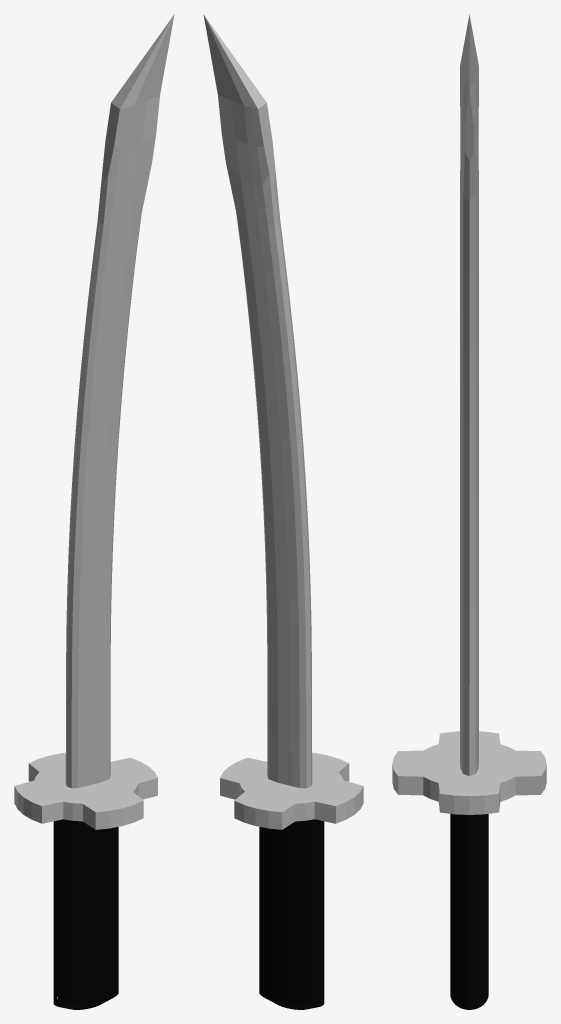
File: ExportedBlenderFBXFile.fbx
3 views of the same model, side by side, from view 1: azimuth 30°, elevation 25°; view 2: azimuth 150°, elevation 25°; view 3: azimuth 270°, elevation 25° (orthographic). The views are drawn at different scales.
Parts seen in each view (by area): view 1: katanaBlade, katanaHilt(tsuka), katanaGuard(tsuba); view 2: katanaBlade, katanaHilt(tsuka), katanaGuard(tsuba); view 3: katanaBlade, katanaGuard(tsuba), katanaHilt(tsuka).
Boxes of the visible parts, x1,y1,x2,y2 form: katanaBlade: (65, 14, 174, 788); katanaHilt(tsuka): (53, 819, 118, 1009); katanaGuard(tsuba): (14, 752, 157, 829); katanaBlade: (203, 14, 312, 788); katanaHilt(tsuka): (259, 819, 324, 1009); katanaGuard(tsuba): (220, 752, 363, 829); katanaBlade: (460, 14, 478, 775); katanaGuard(tsuba): (392, 731, 546, 814); katanaHilt(tsuka): (450, 814, 488, 1009).
Size of the model in its own units: 4.82 by 29.53 by 4.
